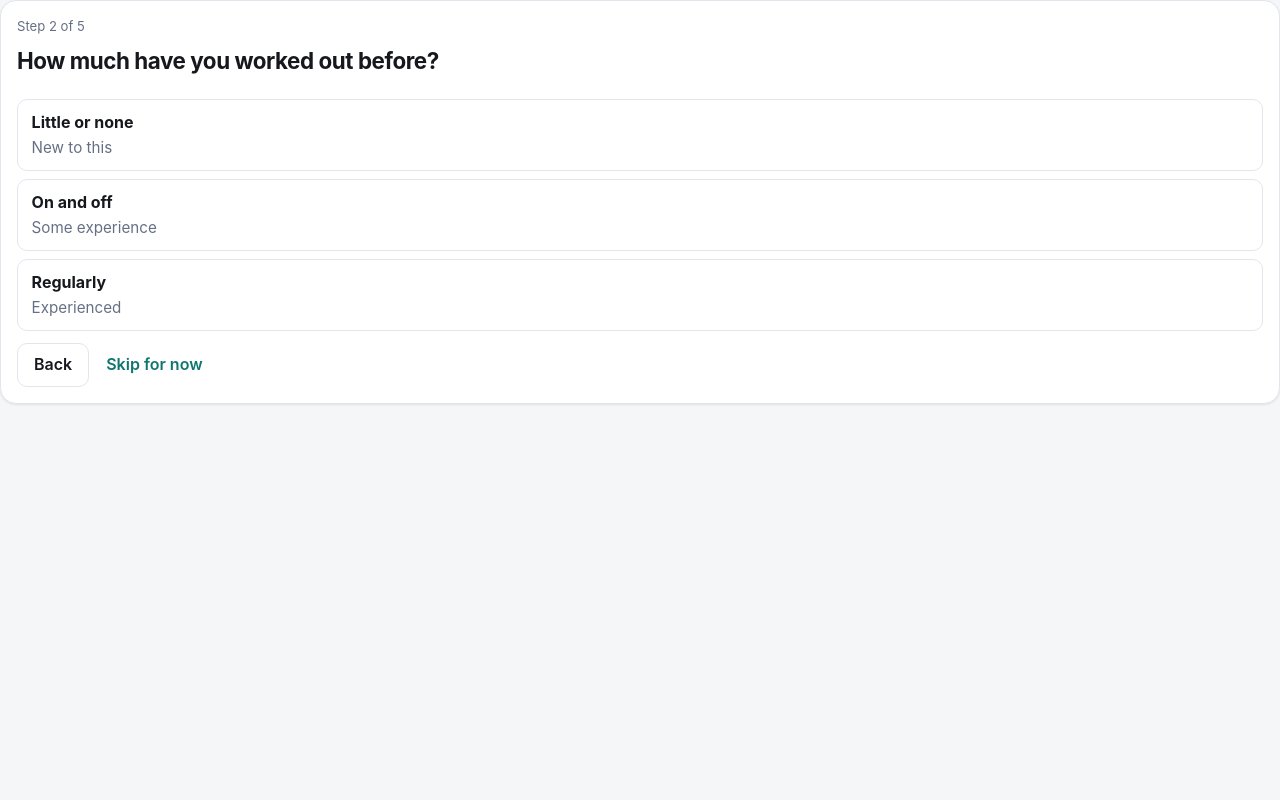
Test case: welcome flow › asks five short steps, suggests a goal, builds a plan and saves it
Earlier steps of the test are not shown.
Later steps or results of the test are not shown.
Click the button "Little or none New to this": click(83, 122) x1=17 y1=99 x2=1263 y2=171
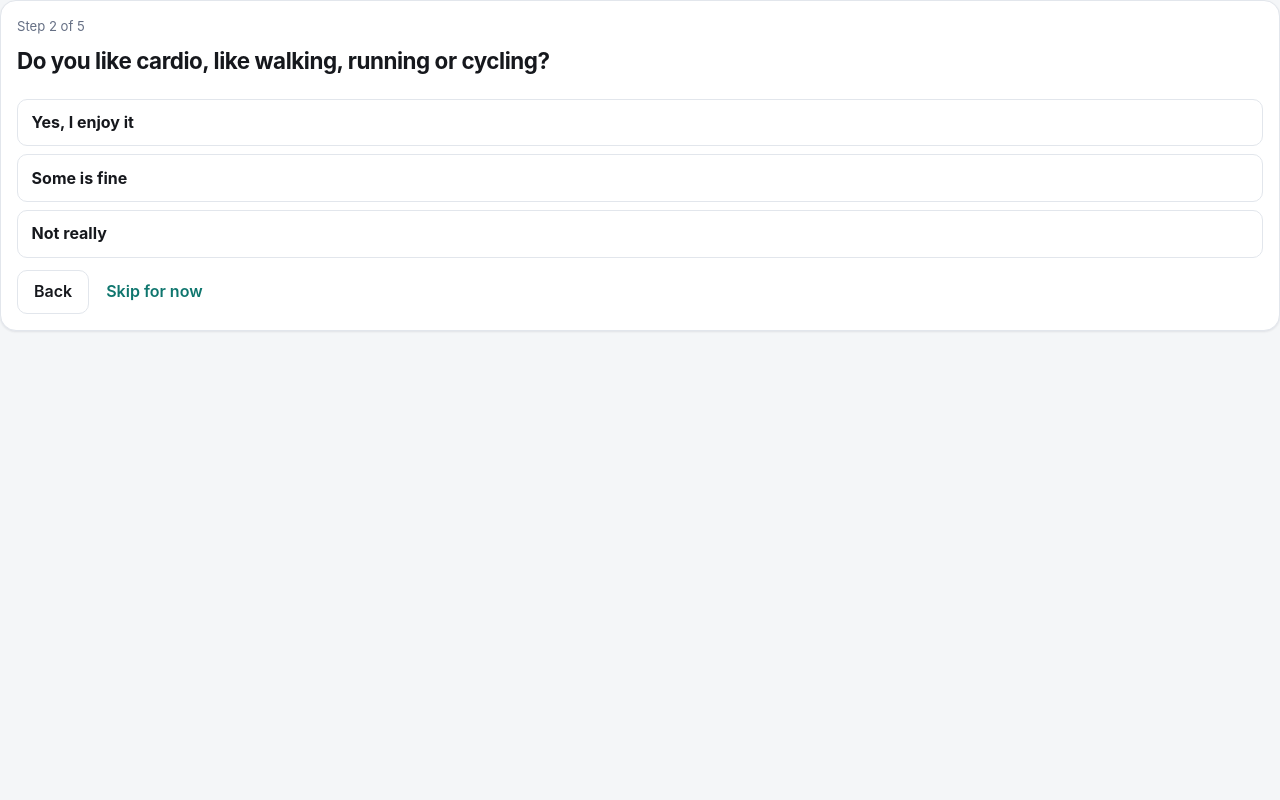
Click the button "Not really": click(69, 233) x1=17 y1=210 x2=1263 y2=258
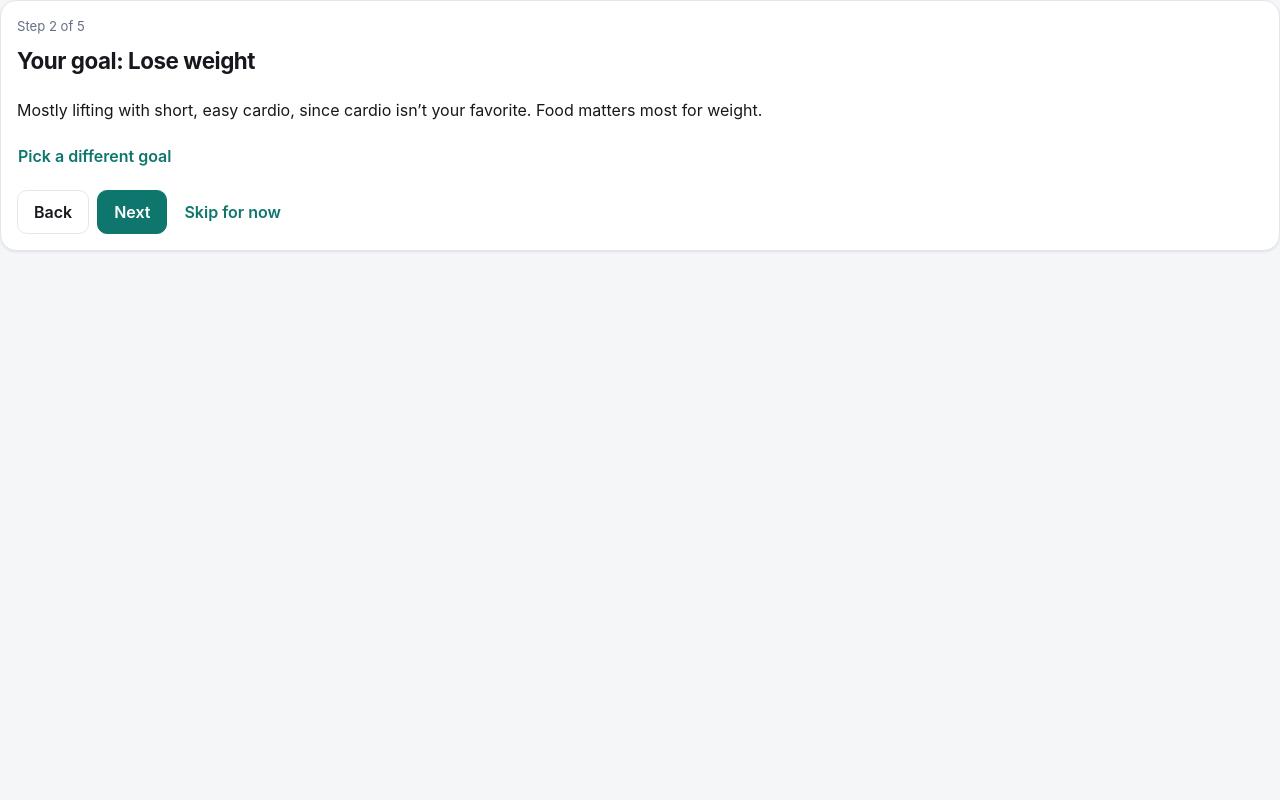
Now the heading "Your goal: Lose weight" is shown, box x1=17 y1=47 x2=255 y2=74
Now the text "cardio isn’t your favorite" is shown, box x1=17 y1=100 x2=762 y2=120
Click the button "Pick a different goal": click(95, 156) x1=17 y1=134 x2=172 y2=178
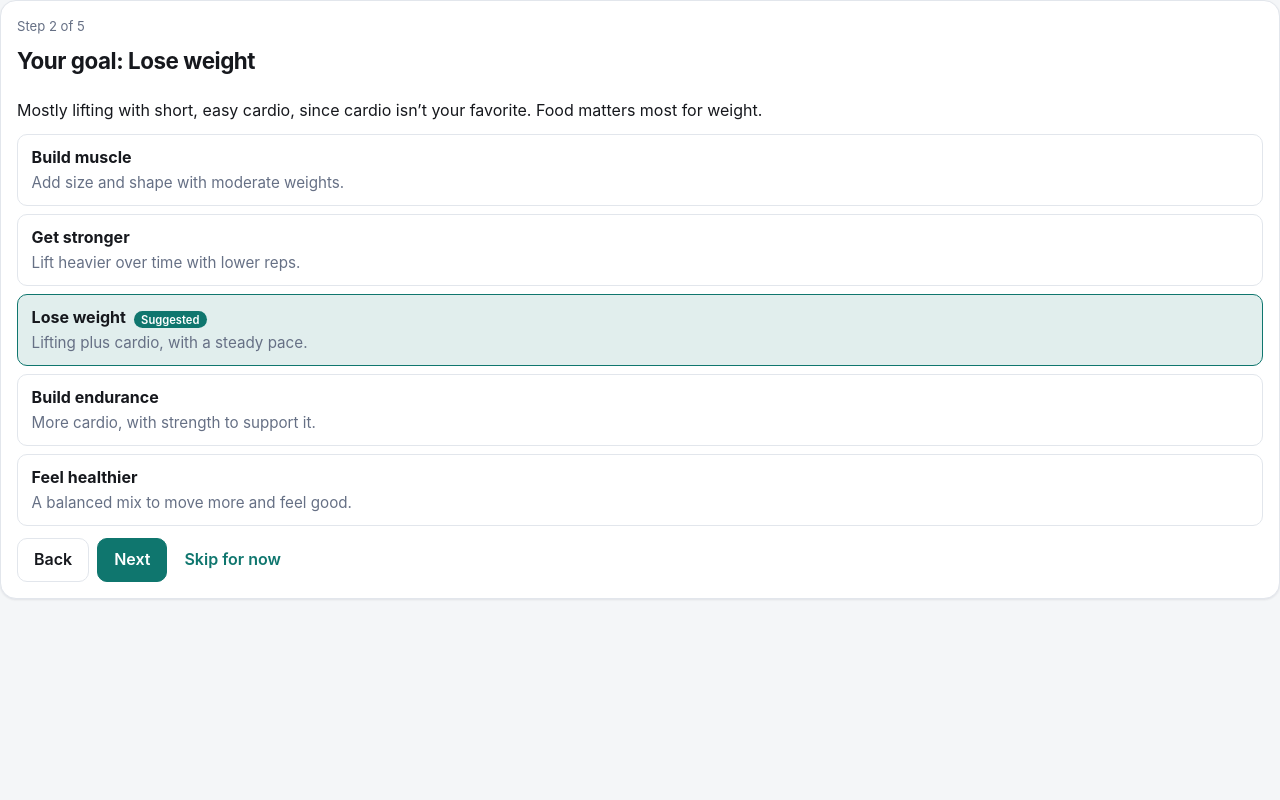
Click the button "Feel healthier A balanced mix to move more and feel good.": click(85, 477) x1=17 y1=454 x2=1263 y2=526
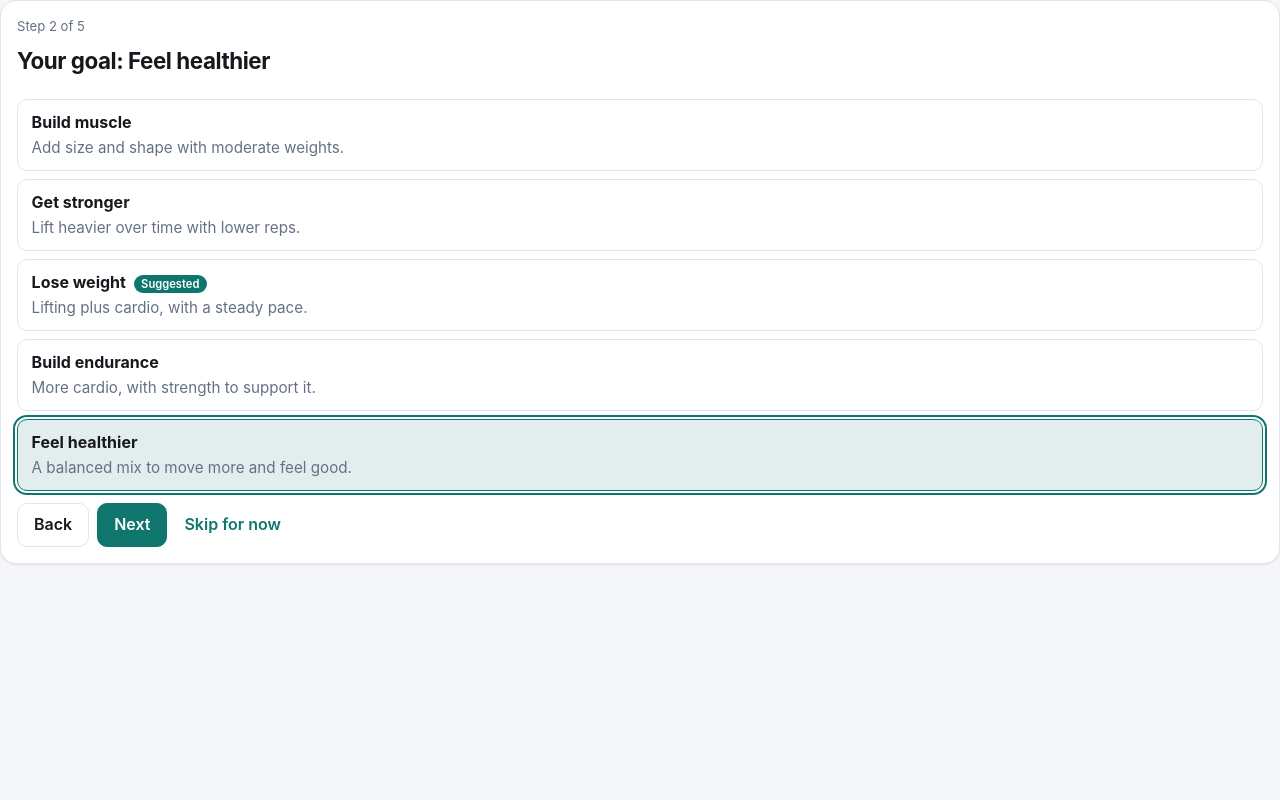
Now the heading "Your goal: Feel healthier" is shown, box x1=17 y1=47 x2=270 y2=74
Click the button "Lose weight": click(79, 282) x1=17 y1=259 x2=1263 y2=331
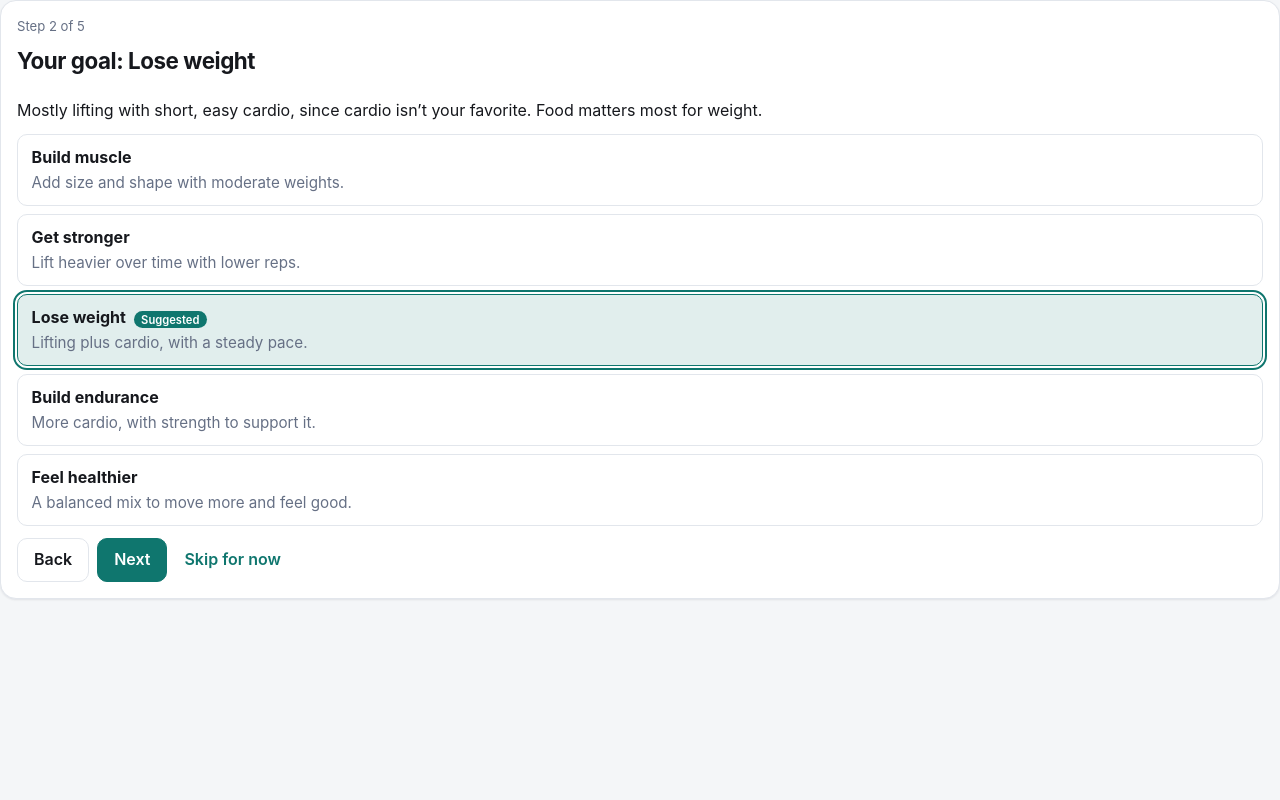
Click the button "Next": click(132, 560) x1=97 y1=538 x2=168 y2=582
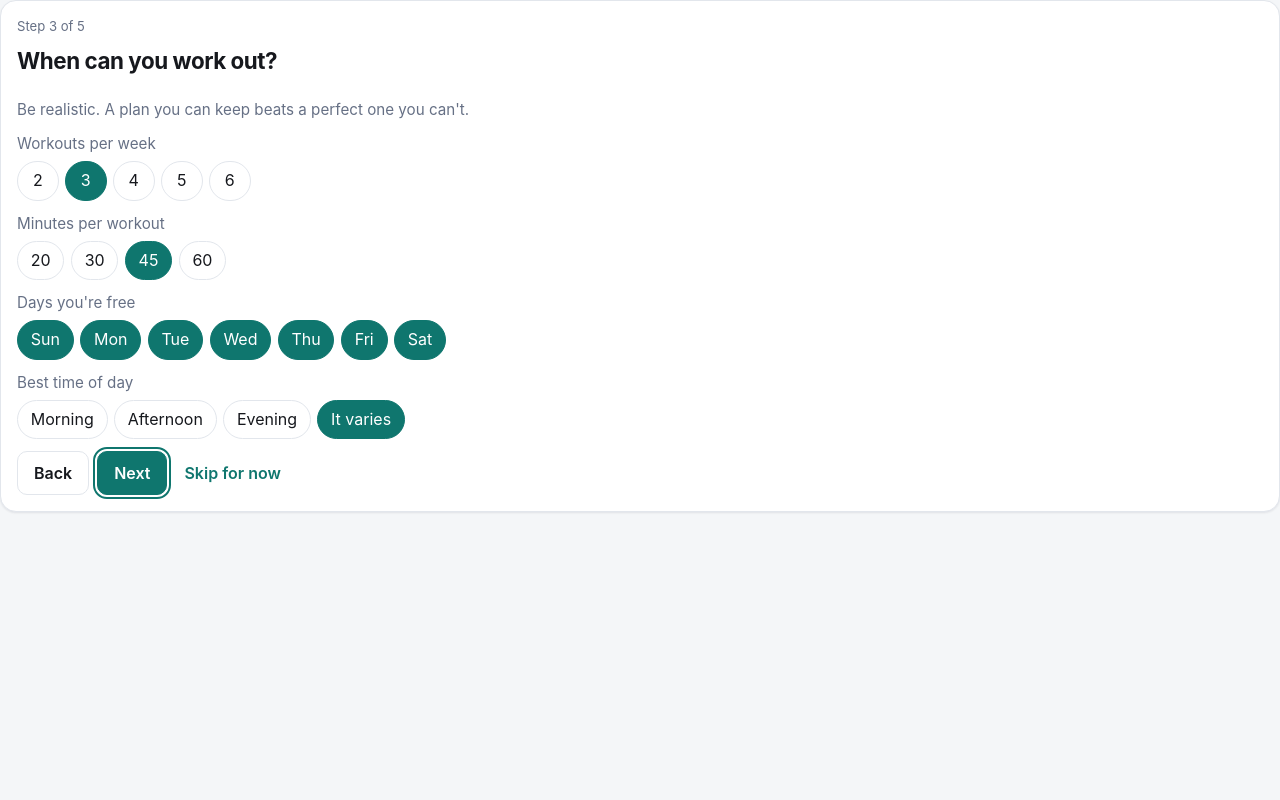
Now the text "Step 3 of 5" is shown, box x1=17 y1=18 x2=85 y2=34
